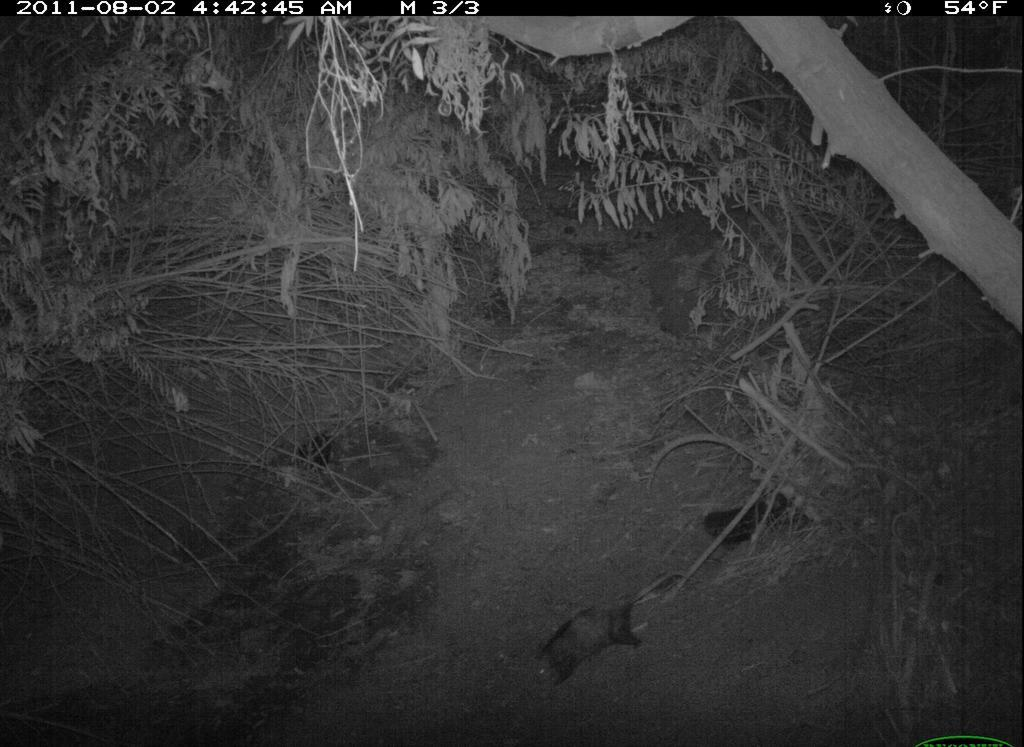opossum: (513, 570, 699, 697)
